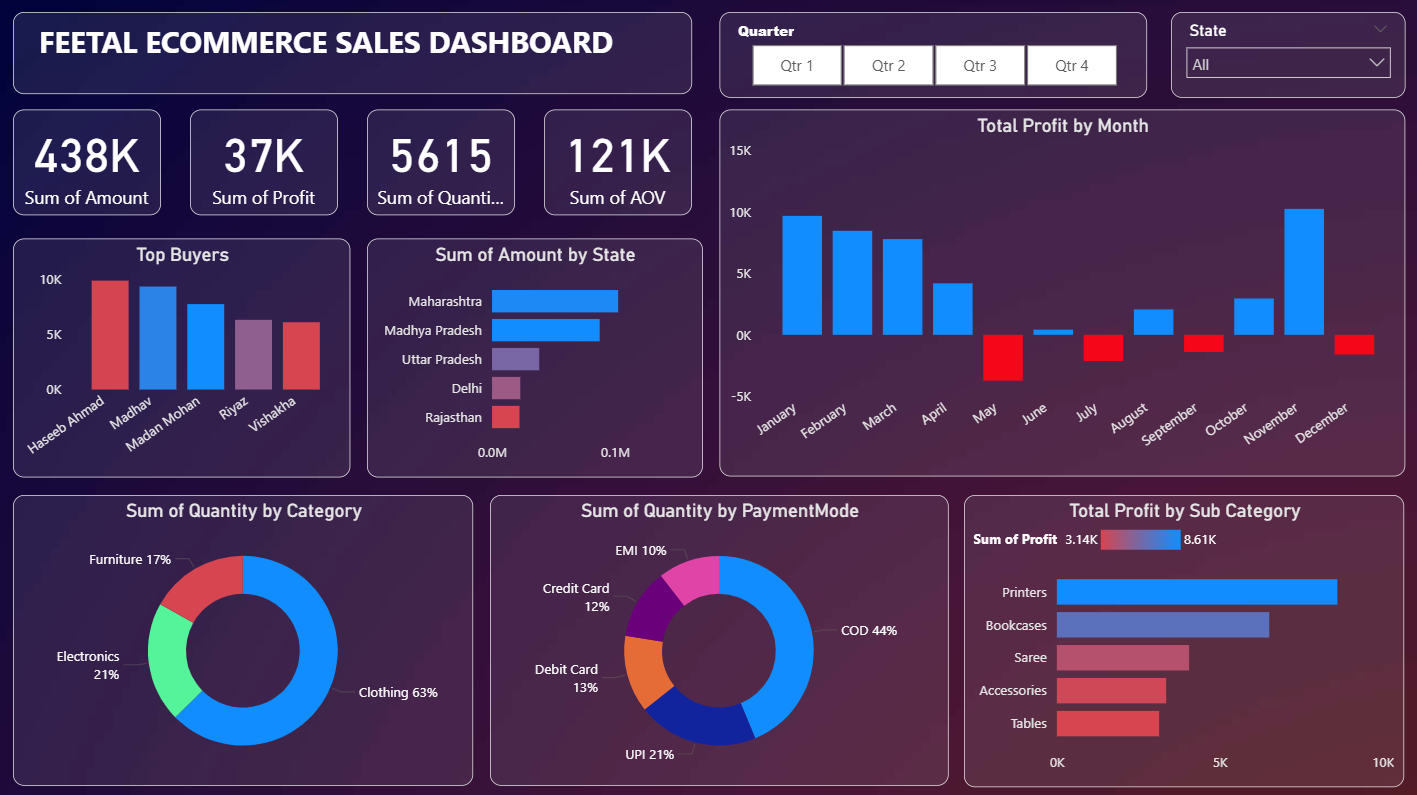

What the dashboard file says about the page in this screenshot:
{"tool":"powerbi","page":{"name":"Page 1","canvas":[1280,720],"ordinal":0},"visuals":[{"type":"textbox","box":[13.2,13.2,612.3,73.7],"z":0},{"type":"clusteredColumnChart","title":"Total Profit by Month","fields":{"Y":["Details.Profit"],"Category":["Orders.Order Date.Variation.Date Hierarchy.Month"]},"box":[650.1,102,618,330.7],"z":1000},{"type":"barChart","title":"Total Profit by Sub Category","fields":{"Y":["Details.Profit"],"Category":["Details.Sub-Category"]},"box":[870.7,448.2,396.7,263.5],"z":2000},{"type":"donutChart","fields":{"Category":["Details.PaymentMode"],"Y":["Details.Quantity"]},"box":[442.9,448.2,413.4,262],"z":3000},{"type":"donutChart","fields":{"Category":["Details.Category"],"Y":["Details.Quantity"]},"box":[13.6,448.2,414.9,262],"z":4000},{"type":"card","fields":{"Values":["Details.Amount"]},"box":[13.6,101.5,133.3,95.4],"z":5000},{"type":"card","fields":{"Values":["Details.Profit"]},"box":[172.6,101.5,133.3,95.4],"z":6000},{"type":"card","fields":{"Values":["Details.Quantity"]},"box":[333.1,101.5,133.3,95.4],"z":7000},{"type":"card","fields":{"Values":["Details.Avg Order Value"]},"box":[492.1,101.5,133.3,95.4],"z":8000},{"type":"barChart","title":"Sum of Amount by State","fields":{"Category":["Orders.State"],"Y":["Details.Amount"]},"box":[332.6,217.3,302.4,215.4],"z":9000},{"type":"clusteredColumnChart","title":"Top Buyers","fields":{"Category":["Orders.CustomerName"],"Y":["Details.Amount"]},"box":[13.2,217.3,304.3,215.4],"z":10000},{"type":"slicer","fields":{"Values":["Orders.State"]},"box":[1056.4,13.2,211.7,77.5],"z":11000},{"type":"slicer","fields":{"Values":["Orders.Order Date.Variation.Date Hierarchy.Quarter"]},"box":[650.1,13.2,385.5,77.5],"z":12000}]}

Visuals, with their boxes in screenshot pixels (x1, y1, x2, y2), scaled from the page's 1280x720 canvas onto the 1417x795 screenshot:
textbox: bbox(15, 15, 692, 96)
"Total Profit by Month" clusteredColumnChart: bbox(720, 113, 1404, 478)
"Total Profit by Sub Category" barChart: bbox(964, 495, 1403, 786)
donutChart - Details.PaymentMode x Details.Quantity: bbox(490, 495, 948, 784)
donutChart - Details.Category x Details.Quantity: bbox(15, 495, 474, 784)
card - Details.Amount: bbox(15, 112, 163, 217)
card - Details.Profit: bbox(191, 112, 339, 217)
card - Details.Quantity: bbox(369, 112, 516, 217)
card - Details.Avg Order Value: bbox(545, 112, 692, 217)
"Sum of Amount by State" barChart: bbox(368, 240, 703, 478)
"Top Buyers" clusteredColumnChart: bbox(15, 240, 351, 478)
slicer - Orders.State: bbox(1169, 15, 1404, 100)
slicer - Orders.Order Date.Variation.Date Hierarchy.Quarter: bbox(720, 15, 1146, 100)
